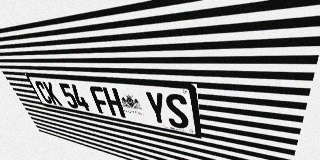4: (69, 84, 91, 111)
5: (58, 83, 80, 109)
C: (34, 81, 54, 104)
F: (88, 86, 112, 115)
H: (102, 87, 126, 118)
K: (42, 81, 63, 106)
S: (164, 93, 190, 130)
Y: (144, 91, 169, 126)
